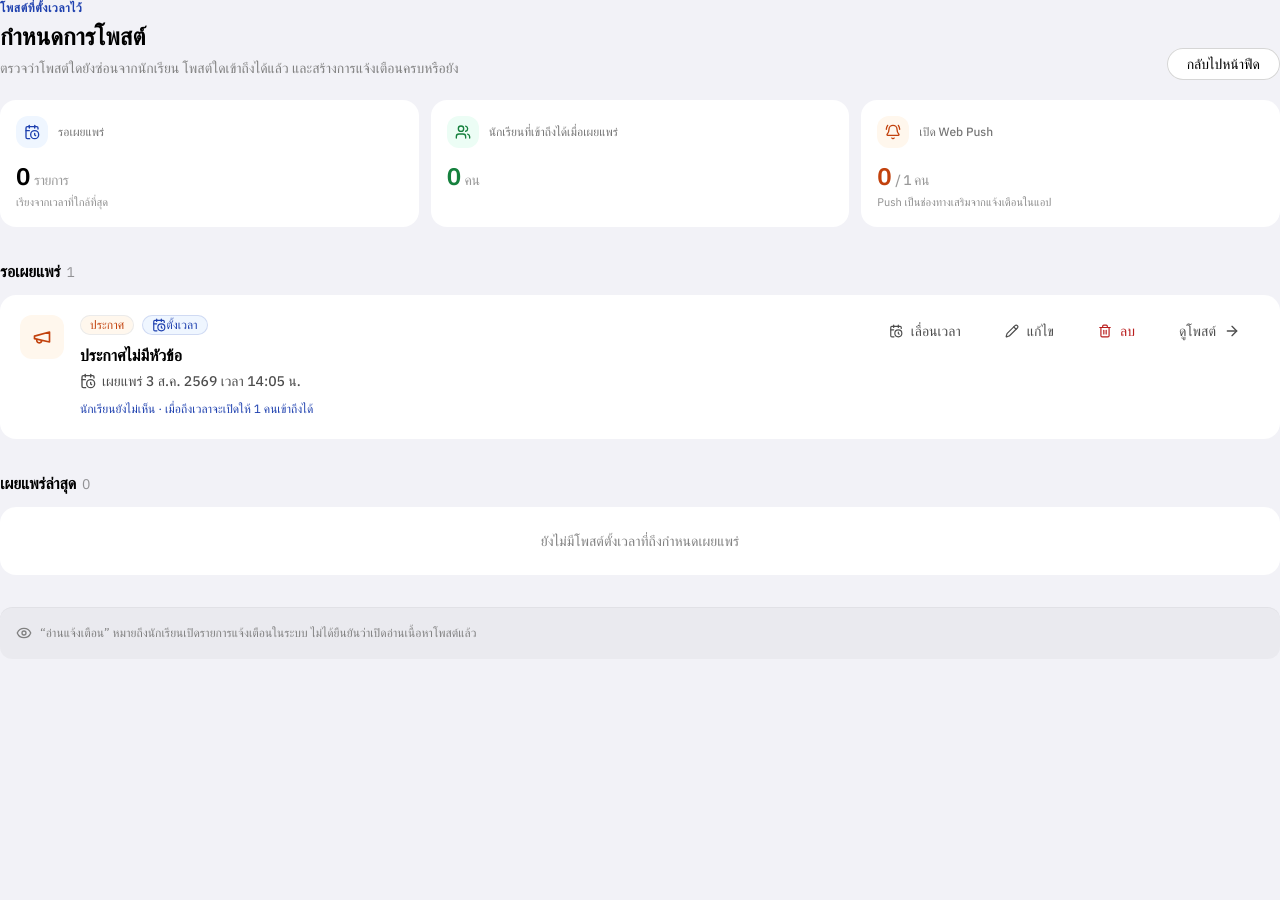
Test case: TeacherPublishingScheduleView › explains the real Production waiting state without claiming it was seen
Expected: the heading "ประกาศไม่มีหัวข้อ" is shown, [80, 344, 182, 364]
Expected: the text "ตั้งเวลา" is shown, [142, 314, 208, 334]
Click the button with aria-label "แก้ไขประกาศ". click: (1029, 330)
box: [985, 314, 1074, 346]
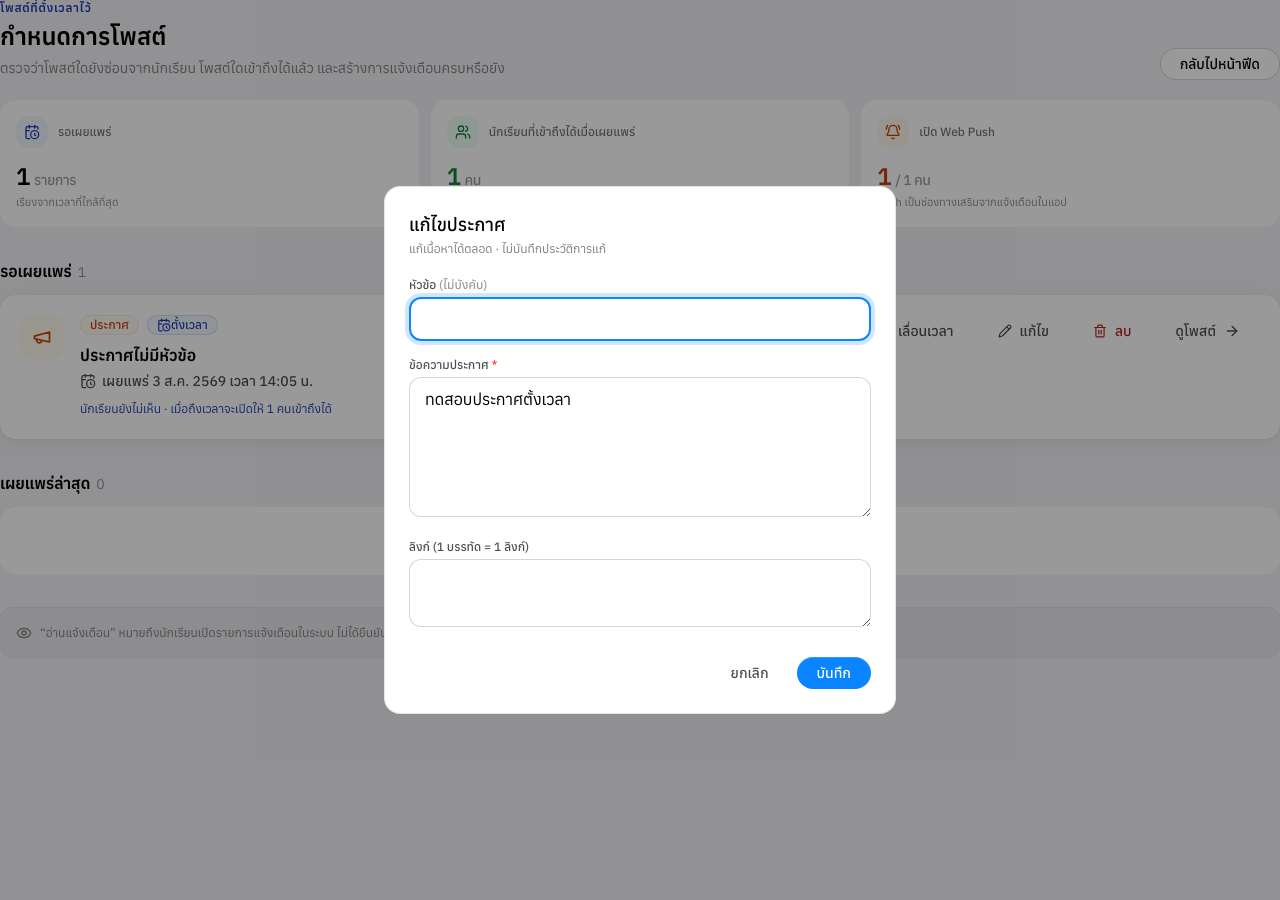
Now the heading "แก้ไขประกาศ" is shown, box [409, 213, 506, 236]
